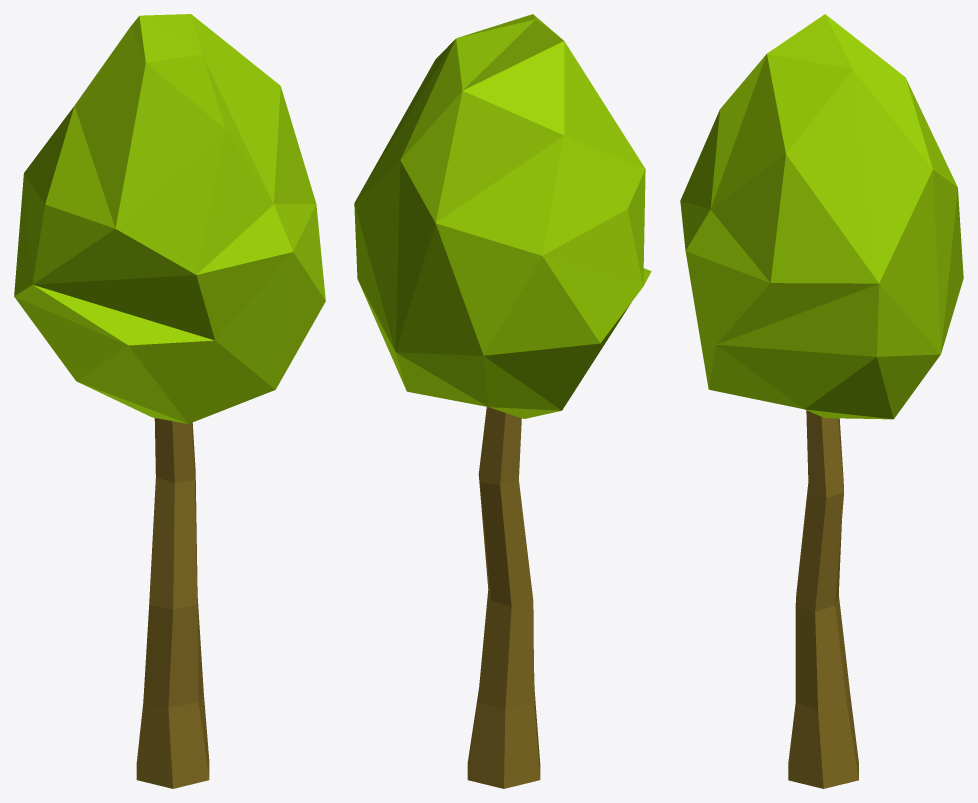
The model's file is tree2.fbx.
The picture shows the model from 3 angles, left to right: view 1: azimuth 30°, elevation 25°; view 2: azimuth 150°, elevation 25°; view 3: azimuth 270°, elevation 25°; orthographic projection. The views are drawn at different scales.
Parts seen in each view (by area): view 1: pCube2; view 2: pCube2; view 3: pCube2.
Boxes of the visible parts, bbox=[...] form: pCube2: bbox=[14, 14, 325, 788]; pCube2: bbox=[354, 14, 651, 788]; pCube2: bbox=[680, 14, 963, 788].
Bounding box in the file's own units: 7.2 × 20.07 × 6.95.
